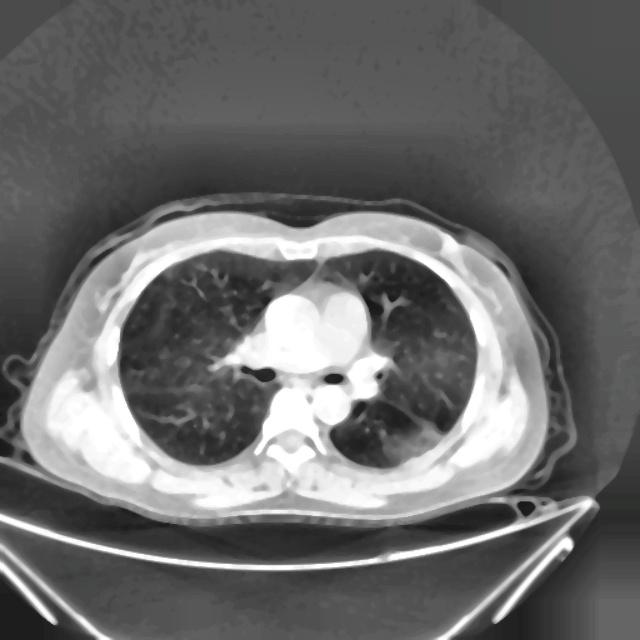covid: (15, 192, 567, 530)
